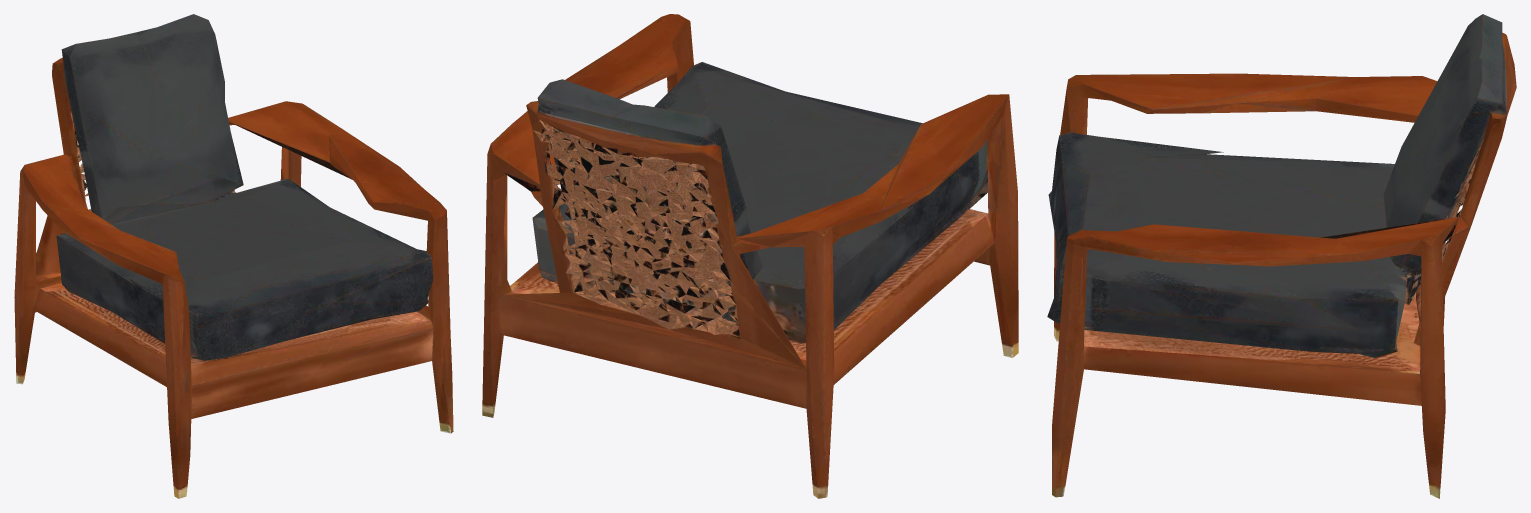
3 renders of one model, left to right at view 1: azimuth 30°, elevation 25°; view 2: azimuth 150°, elevation 25°; view 3: azimuth 270°, elevation 25°, orthographic. The views are drawn at different scales.
Size of the model in its own units: 1.78 by 1.64 by 1.9.
Materials: 1 (1 with a texture image).
